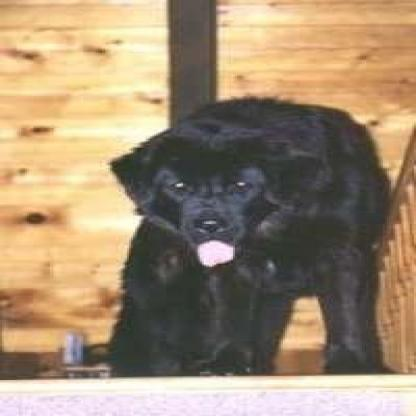Tibetan_mastiff: (104, 96, 399, 376)
